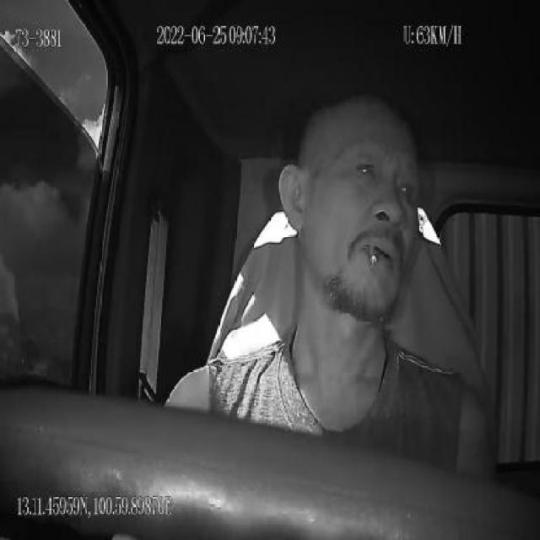smoking: (366, 246, 378, 268)
